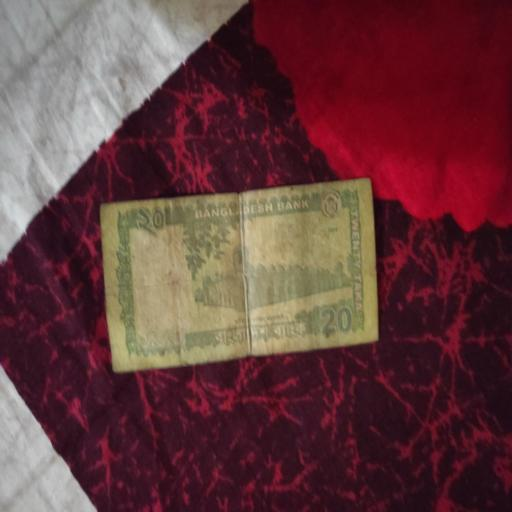20taka: (103, 182, 375, 370)
